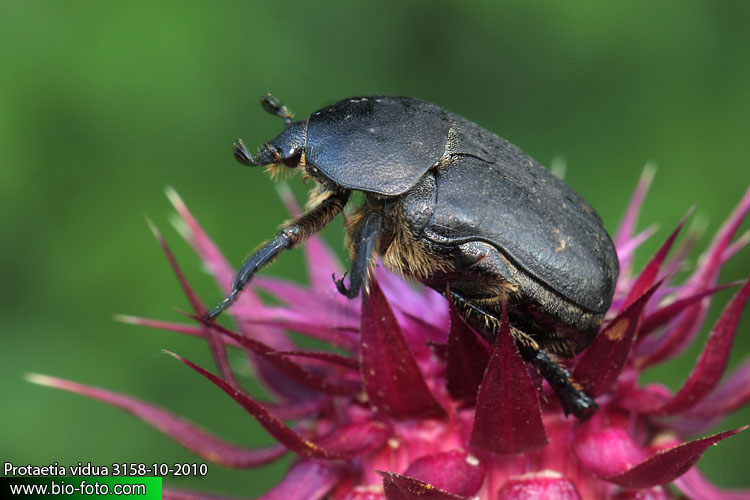Protaetia_vidua: (202, 85, 628, 397)
